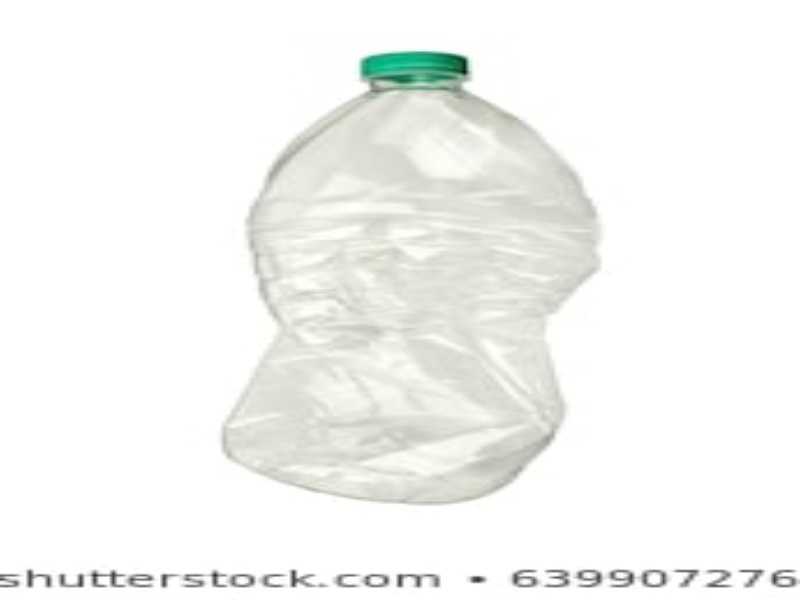bottle-cap: (356, 50, 474, 88)
plastic-bottle: (219, 44, 604, 509)
